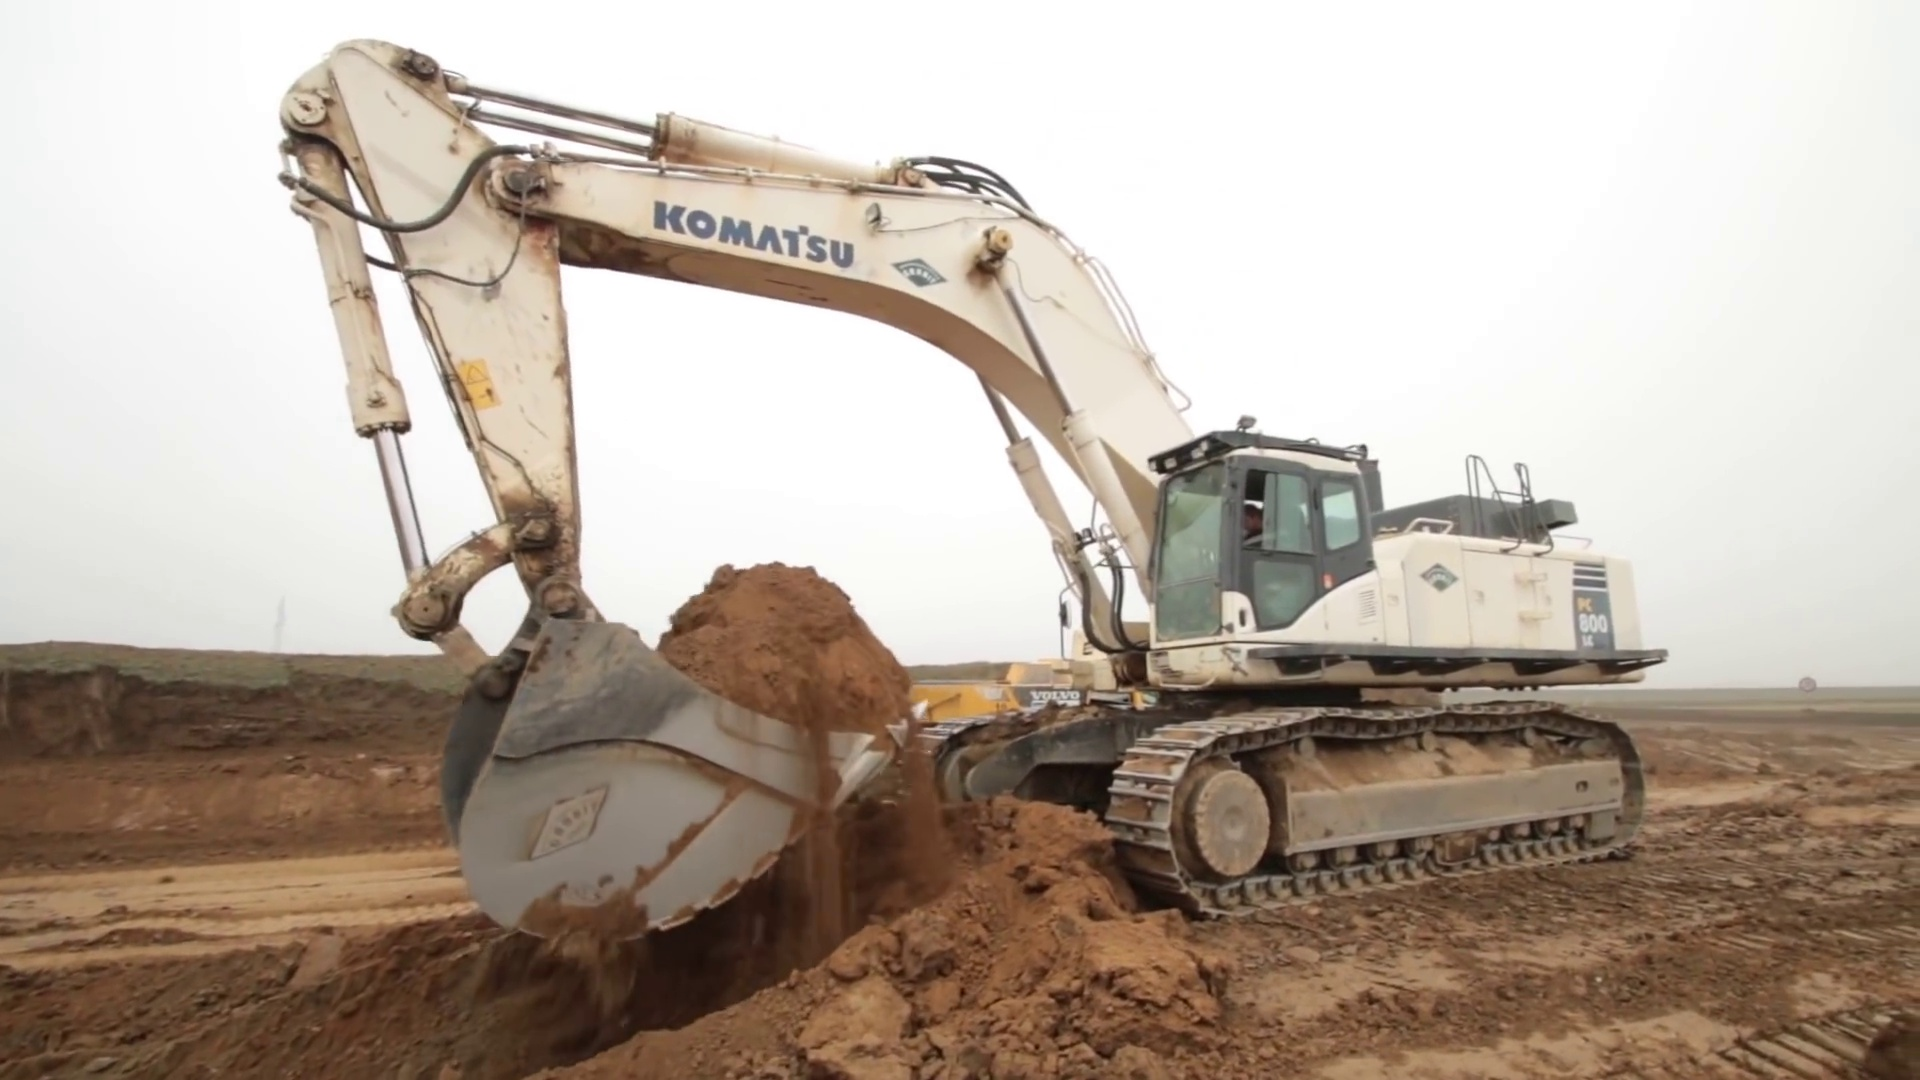excavator: (273, 32, 1665, 945)
